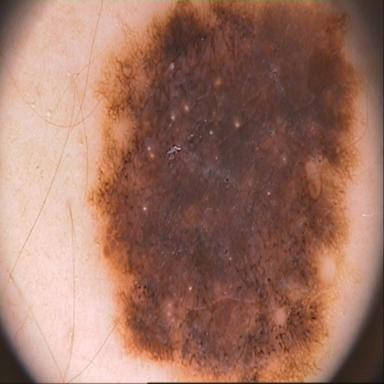nevus: (89, 3, 364, 381)
